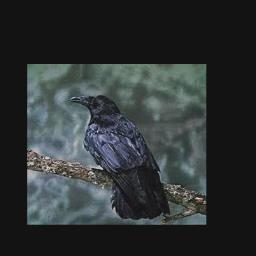Crow: (70, 94, 171, 220)
